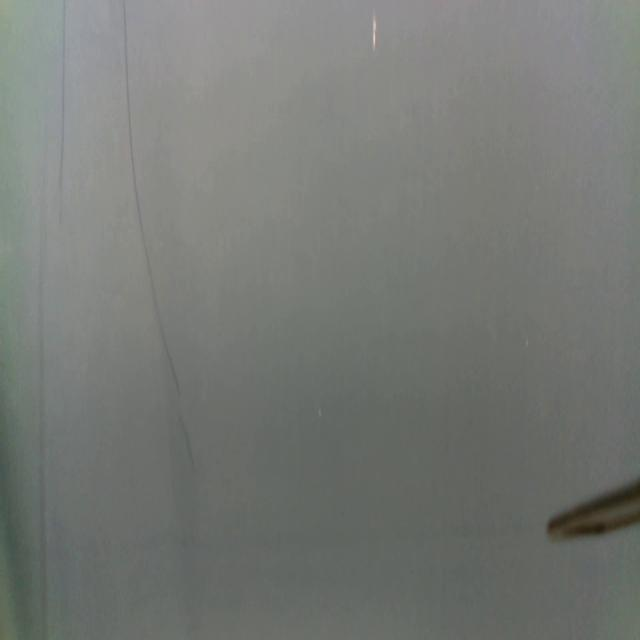crease: (122, 0, 180, 390), (37, 115, 51, 640), (58, 0, 67, 190), (179, 414, 195, 466)
hole: (371, 12, 379, 53)
